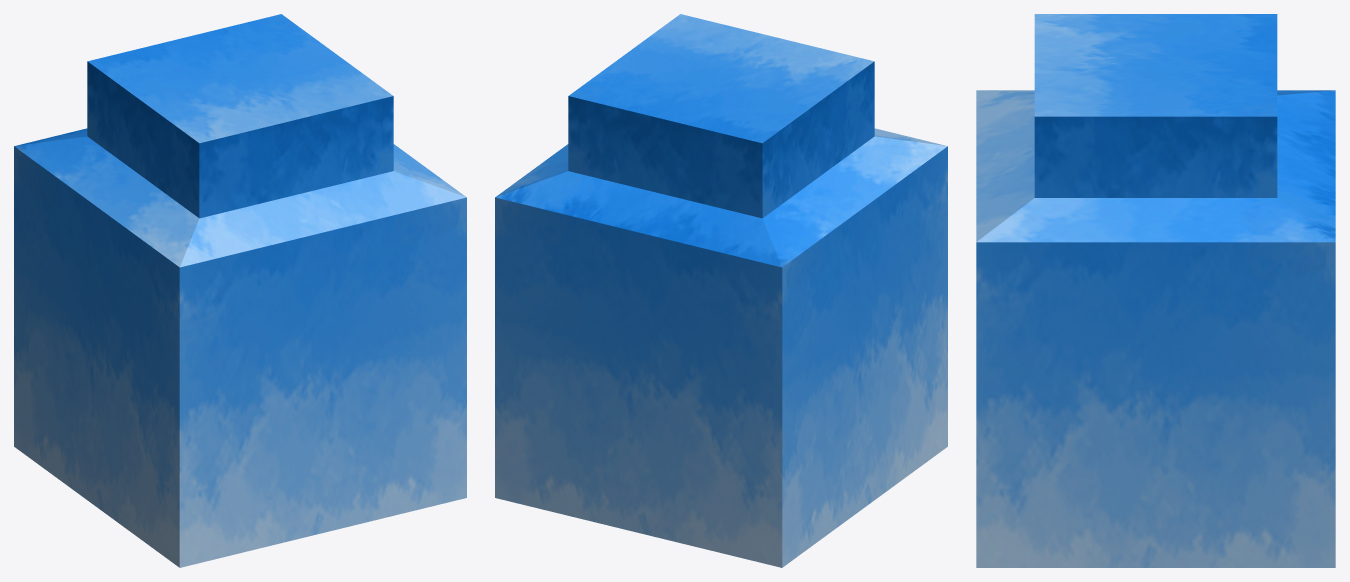
File: Room_001.glb.gltf
3 renders of one model, left to right at view 1: azimuth 30°, elevation 25°; view 2: azimuth 150°, elevation 25°; view 3: azimuth 270°, elevation 25°, orthographic. The views are drawn at different scales.
Parts seen in each view (by area): view 1: statuething; view 2: statuething; view 3: statuething.
Part boxes in pixels (bbox=[...]): statuething: bbox=[14, 14, 466, 567]; statuething: bbox=[495, 14, 947, 567]; statuething: bbox=[976, 14, 1335, 567].
Bounding box in the file's own units: 2 × 2.62 × 2.
1 material, 1 textured.
